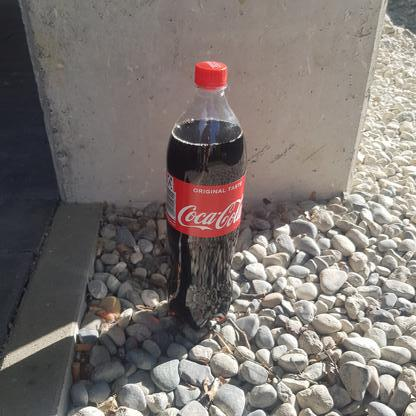coca-cola: (164, 59, 249, 331)
